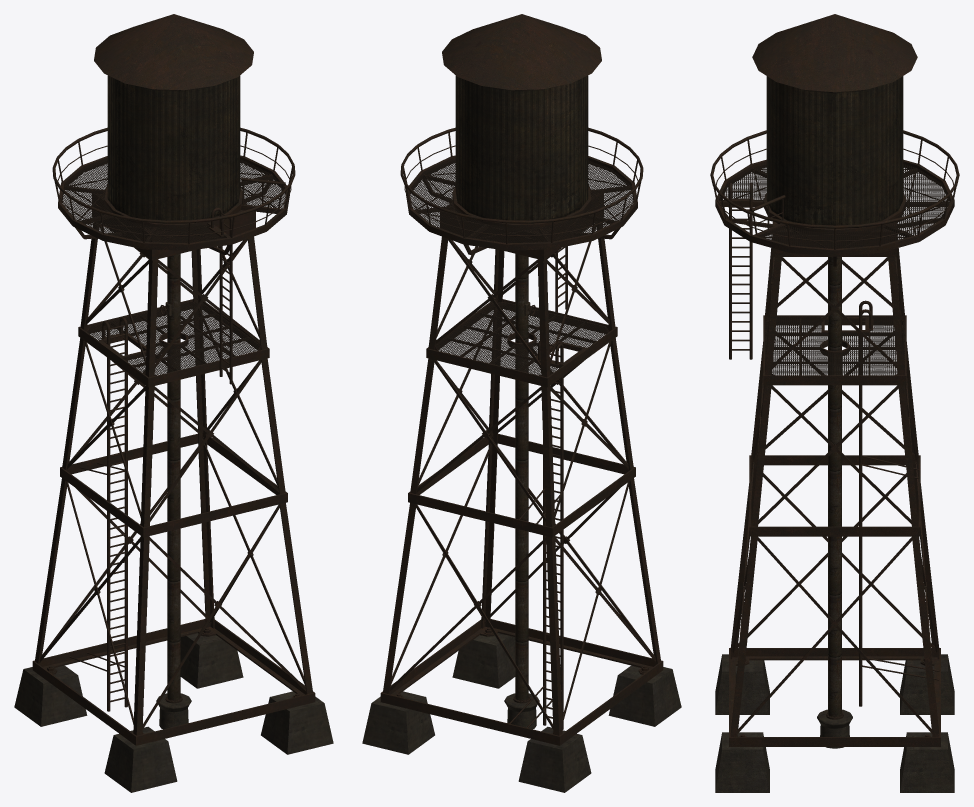
The model's file is water_tower_hm_1.obj.
3 renders of one model, left to right at view 1: azimuth 30°, elevation 25°; view 2: azimuth 150°, elevation 25°; view 3: azimuth 270°, elevation 25°, orthographic. The views are drawn at different scales.
Visible parts, largest first — view 1: water_tower_hm_1; view 2: water_tower_hm_1; view 3: water_tower_hm_1.
Boxes of the visible parts, x1,y1,x2,y2 form: water_tower_hm_1: (14, 14, 333, 792); water_tower_hm_1: (362, 14, 681, 792); water_tower_hm_1: (710, 14, 959, 792).
Bounding box in the file's own units: 7.29 × 23.5 × 7.29.
